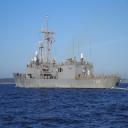Fragata: (14, 14, 123, 91)
